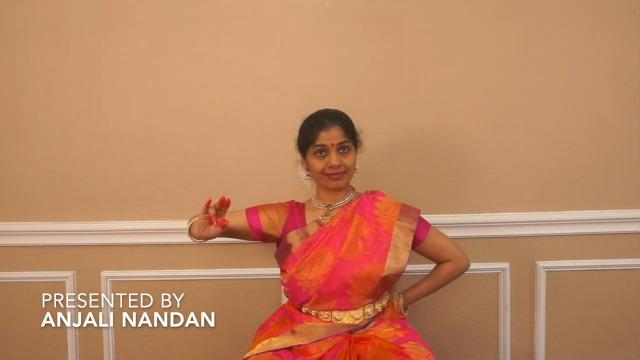kangul: (164, 180, 240, 248)
